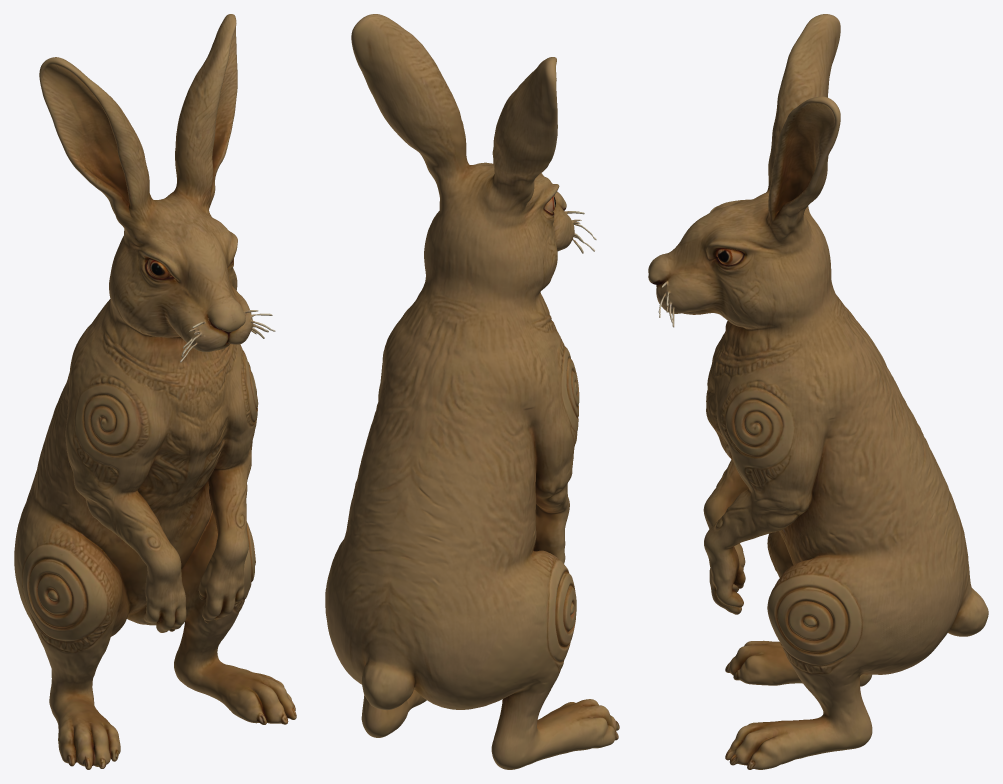
Rendered from 65-el-conejo-amarillo-de-la-gurapería-optimized.glb.
3 renders of one model, left to right at view 1: azimuth 30°, elevation 25°; view 2: azimuth 150°, elevation 25°; view 3: azimuth 270°, elevation 25°, orthographic. The views are drawn at different scales.
Visible parts, largest first — view 1: tripo_node_5f1aceb2-1ec6-4bcd-98ab-4889e4699352; view 2: tripo_node_5f1aceb2-1ec6-4bcd-98ab-4889e4699352; view 3: tripo_node_5f1aceb2-1ec6-4bcd-98ab-4889e4699352.
Boxes of the visible parts, x1=… form: tripo_node_5f1aceb2-1ec6-4bcd-98ab-4889e4699352: x1=14, y1=14, x2=296, y2=769; tripo_node_5f1aceb2-1ec6-4bcd-98ab-4889e4699352: x1=325, y1=14, x2=619, y2=769; tripo_node_5f1aceb2-1ec6-4bcd-98ab-4889e4699352: x1=648, y1=14, x2=988, y2=769.
Bounding box in the file's own units: 0.3523 × 1 × 0.4653.
1 material, 1 textured.
